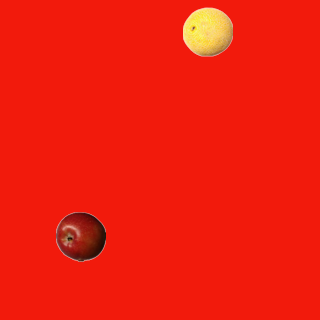Apple Braeburn: (55, 211, 105, 261)
Cantaloupe 1: (182, 6, 232, 56)
